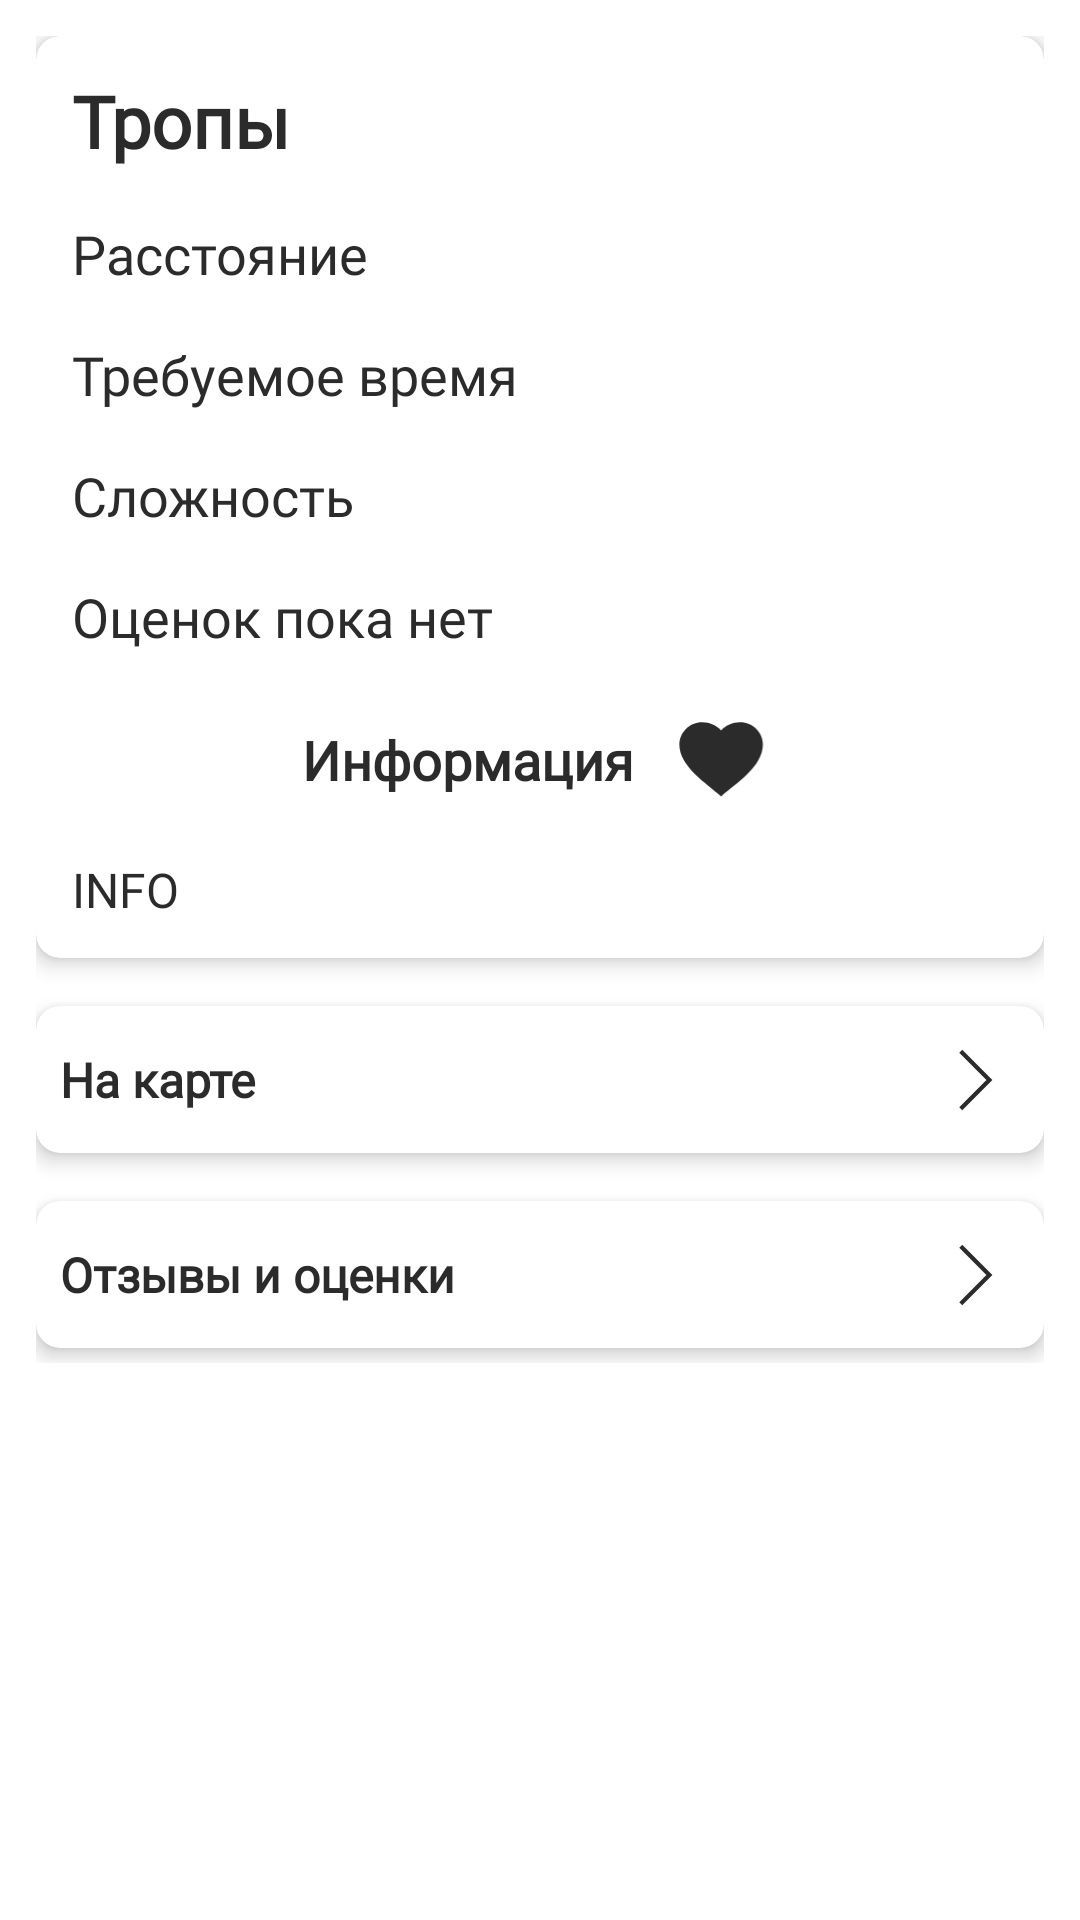

Point at icon controls on the screen. Image size 1080*1920, points as point (x, y).
arrow: point (975, 1080), point (975, 1275)
heart: point (721, 759)
